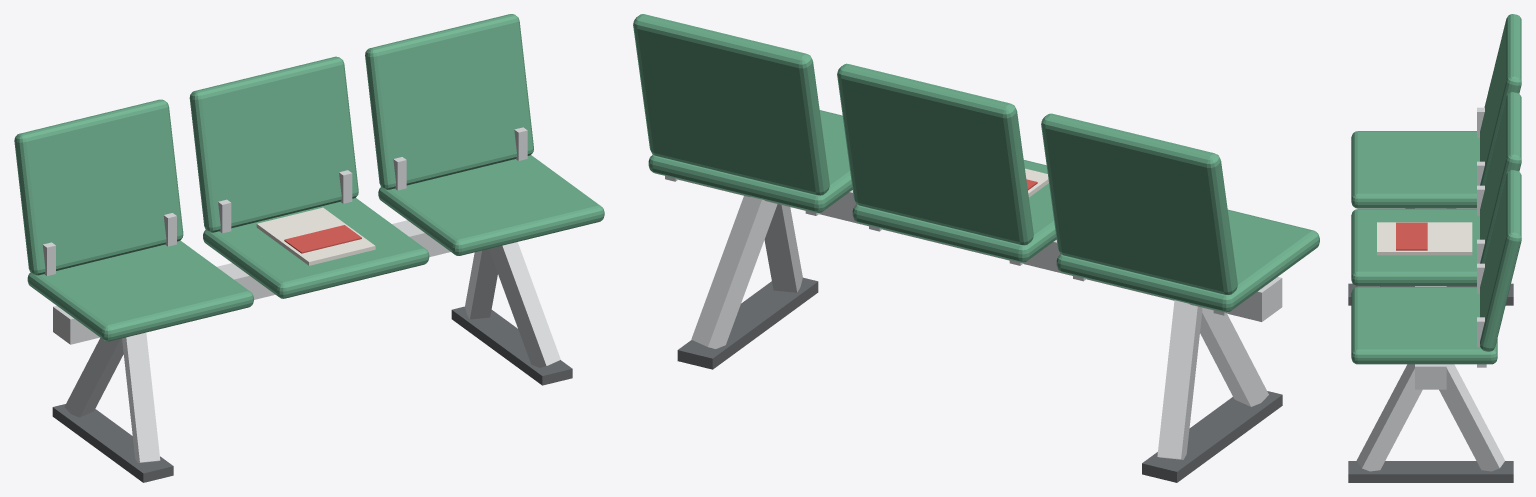
The model's file is waiting-bench.glb.
3 renders of one model, left to right at view 1: azimuth 30°, elevation 25°; view 2: azimuth 150°, elevation 25°; view 3: azimuth 270°, elevation 25°, orthographic. The views are drawn at different scales.
Visible parts, largest first — view 1: car-repair-garage-and-mot-workshop-waiting-chairs; view 2: car-repair-garage-and-mot-workshop-waiting-chairs; view 3: car-repair-garage-and-mot-workshop-waiting-chairs.
Boxes of the visible parts, x1,y1,x2,y2 form: car-repair-garage-and-mot-workshop-waiting-chairs: (14, 14, 604, 482); car-repair-garage-and-mot-workshop-waiting-chairs: (633, 14, 1319, 482); car-repair-garage-and-mot-workshop-waiting-chairs: (1348, 14, 1521, 482).
Bounding box in the file's own units: 1.66 × 0.916 × 0.5459.
